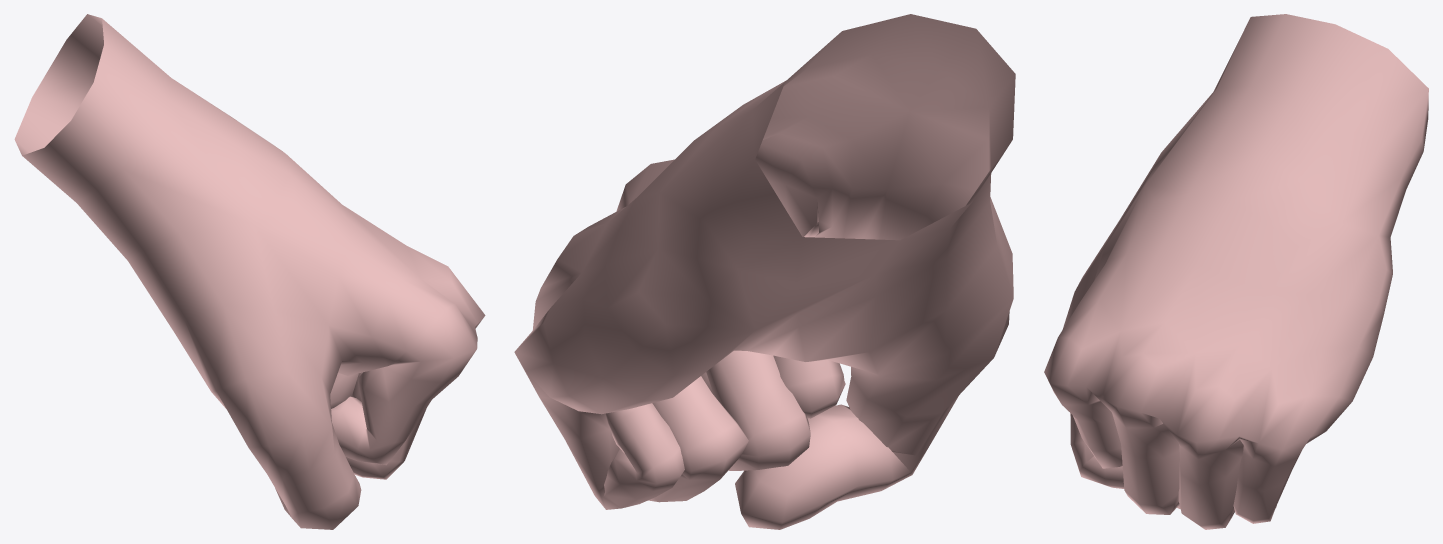
Rendered from Base_Female_A_Fist02.fbx.
3 renders of one model, left to right at view 1: azimuth 30°, elevation 25°; view 2: azimuth 150°, elevation 25°; view 3: azimuth 270°, elevation 25°, orthographic. The views are drawn at different scales.
Parts seen in each view (by area): view 1: Base_Female_A_Fist02; view 2: Base_Female_A_Fist02; view 3: Base_Female_A_Fist02.
Boxes of the visible parts, box(x1,y1,x2,y2) form: Base_Female_A_Fist02: box(14, 14, 485, 529); Base_Female_A_Fist02: box(514, 14, 1015, 529); Base_Female_A_Fist02: box(1044, 14, 1428, 529).
Bounding box in the file's own units: 0.6853 × 0.7793 × 0.6395.
